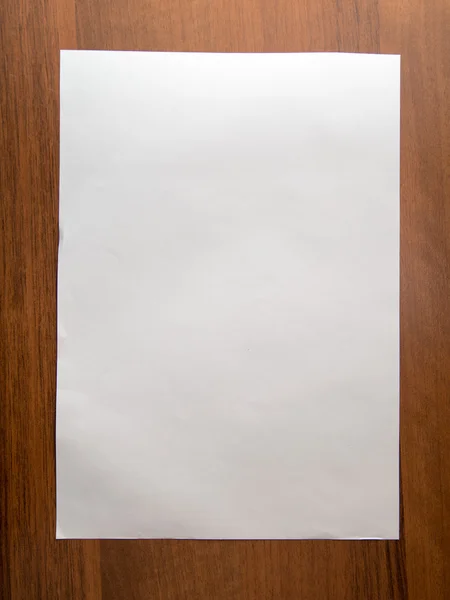page: (60, 54, 400, 539)
